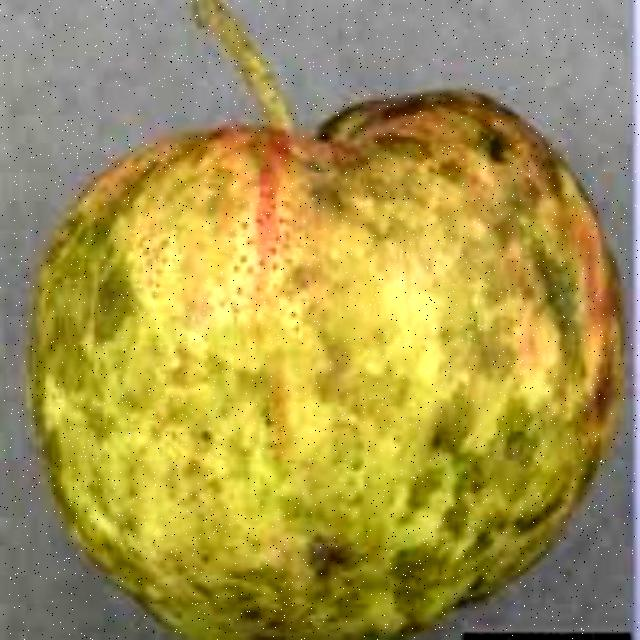BLOTCH: (10, 86, 628, 640)
